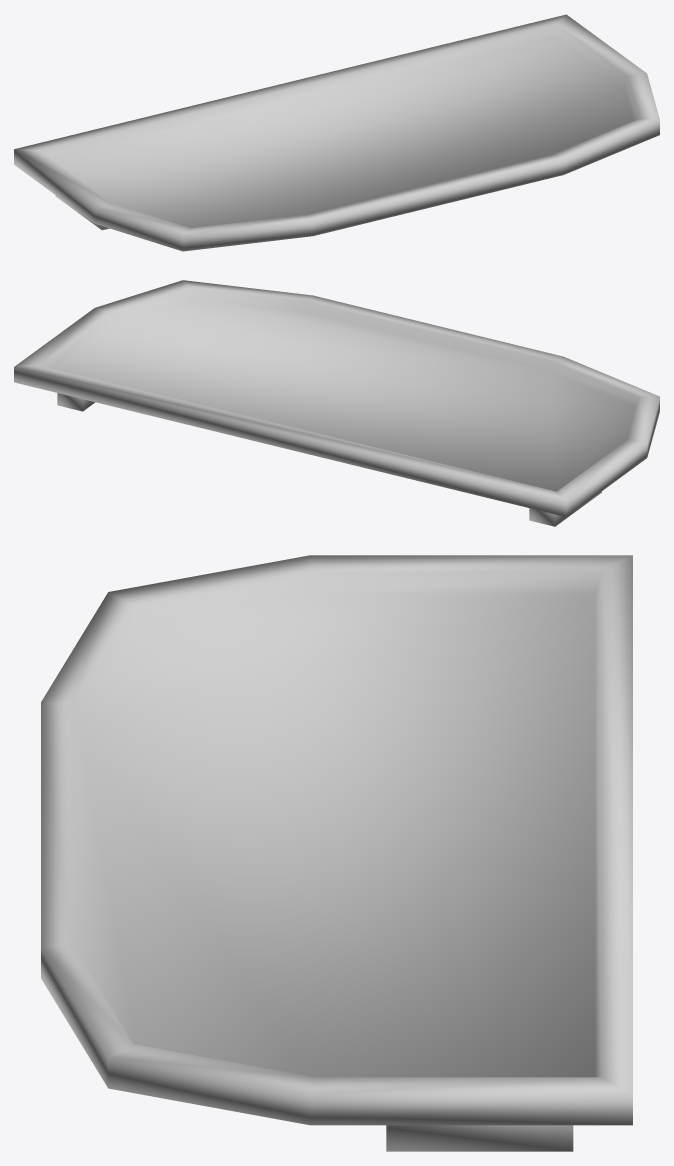
The model's file is High_Chair_Tray.FBX.
The picture shows the model from 3 angles, top to bottom: view 1: azimuth 30°, elevation 25°; view 2: azimuth 150°, elevation 25°; view 3: azimuth 270°, elevation 25°; orthographic projection. The views are drawn at different scales.
Visible parts, largest first — view 1: High_Chair_Tray; view 2: High_Chair_Tray; view 3: High_Chair_Tray.
Boxes of the visible parts, <box> form: High_Chair_Tray: <box>14,14,659,251</box>; High_Chair_Tray: <box>14,280,659,526</box>; High_Chair_Tray: <box>41,555,632,1151</box>.
Bounding box in the file's own units: 150 × 11 × 69.62.
